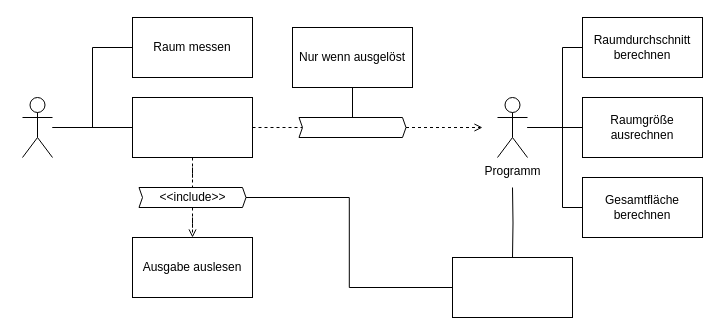
Some shapes in this 720 by 335 pixel diagram are drawn without their labels. The centre of each missing label's shape, as x and y in pixels:
"<<extend>>" goes at [352,127].
"Ausgabe bereitstellen" goes at [512,287].
"Markler" goes at [37,127].
"Programm bedienen (Werte übergeben)" goes at [192,127].
